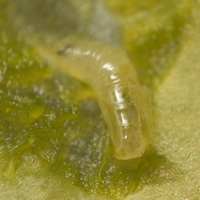insect: (40, 37, 150, 159)
